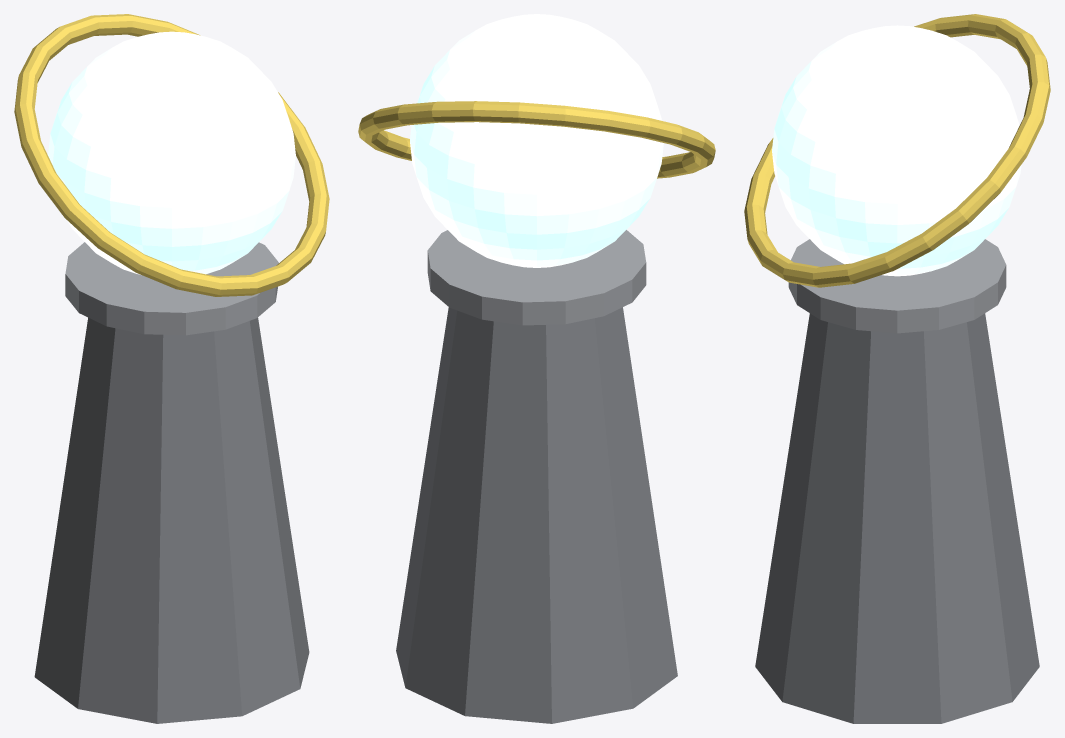
Rendered from seeing_glass.fbx.
3 renders of one model, left to right at view 1: azimuth 30°, elevation 25°; view 2: azimuth 150°, elevation 25°; view 3: azimuth 270°, elevation 25°, orthographic. The views are drawn at different scales.
Visible parts, largest first — view 1: seeing_glass; view 2: seeing_glass; view 3: seeing_glass.
Part boxes in pixels (<box>): seeing_glass: <box>14,14,329,723</box>; seeing_glass: <box>358,14,715,723</box>; seeing_glass: <box>744,14,1050,723</box>.
Size of the model in its own units: 0.8269 by 1.66 by 0.7322.
